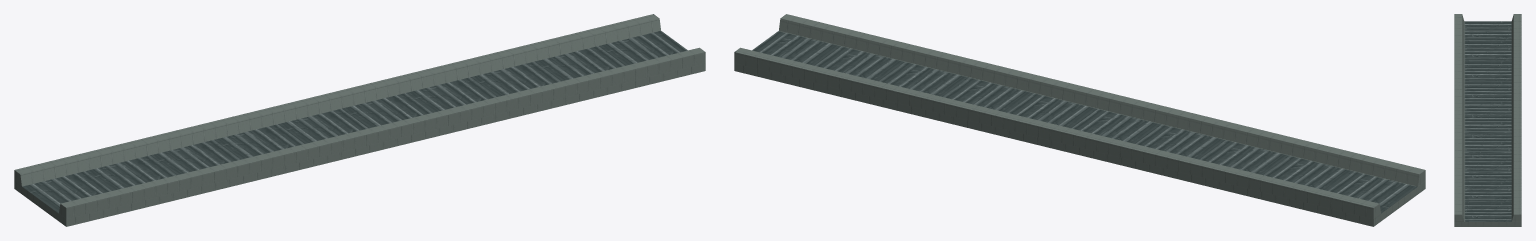
File: bridge.fbx
3 views of the same model, side by side, from view 1: azimuth 30°, elevation 25°; view 2: azimuth 150°, elevation 25°; view 3: azimuth 270°, elevation 25° (orthographic). The views are drawn at different scales.
Visible parts, largest first — view 1: Plane.001; view 2: Plane.001; view 3: Plane.001.
Part boxes in pixels (x1,y1,x2,y2): Plane.001: (14,14,705,226); Plane.001: (734,14,1425,226); Plane.001: (1454,14,1521,226).
Bounding box in the file's own units: 4899 × 139 × 691.
Materials: 1 (1 with a texture image).
